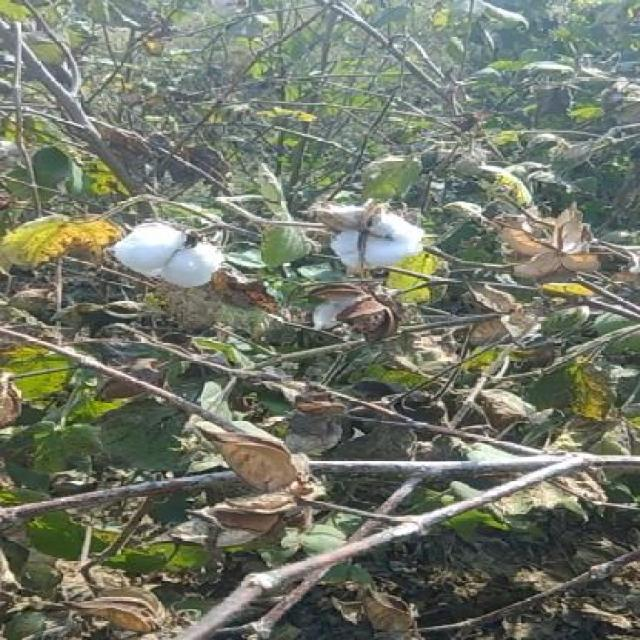cotton_ready: (89, 222, 240, 298), (316, 197, 436, 280)
